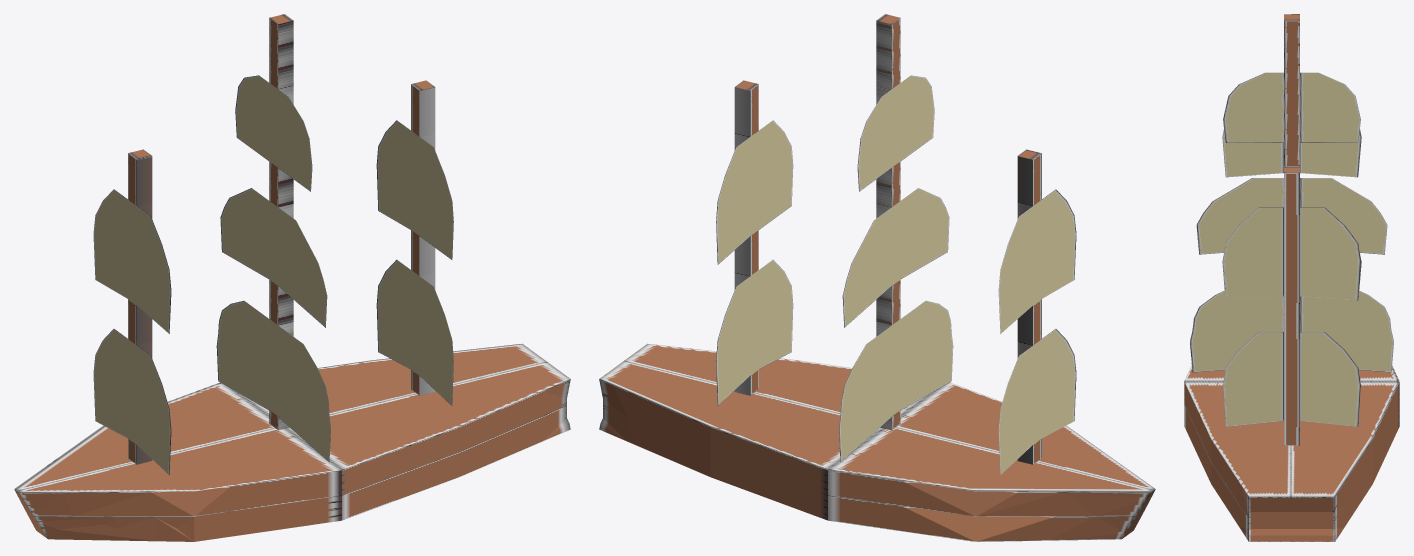
Rendered from galea.glb.
3 renders of one model, left to right at view 1: azimuth 30°, elevation 25°; view 2: azimuth 150°, elevation 25°; view 3: azimuth 270°, elevation 25°, orthographic. The views are drawn at different scales.
Visible parts, largest first — view 1: Cube; view 2: Cube; view 3: Cube.
Boxes of the visible parts, bbox=[...] form: Cube: bbox=[14, 14, 570, 541]; Cube: bbox=[599, 14, 1155, 541]; Cube: bbox=[1184, 14, 1399, 541].
Size of the model in its own units: 4.12 by 3.4 by 1.62.
1 material, 1 textured.
